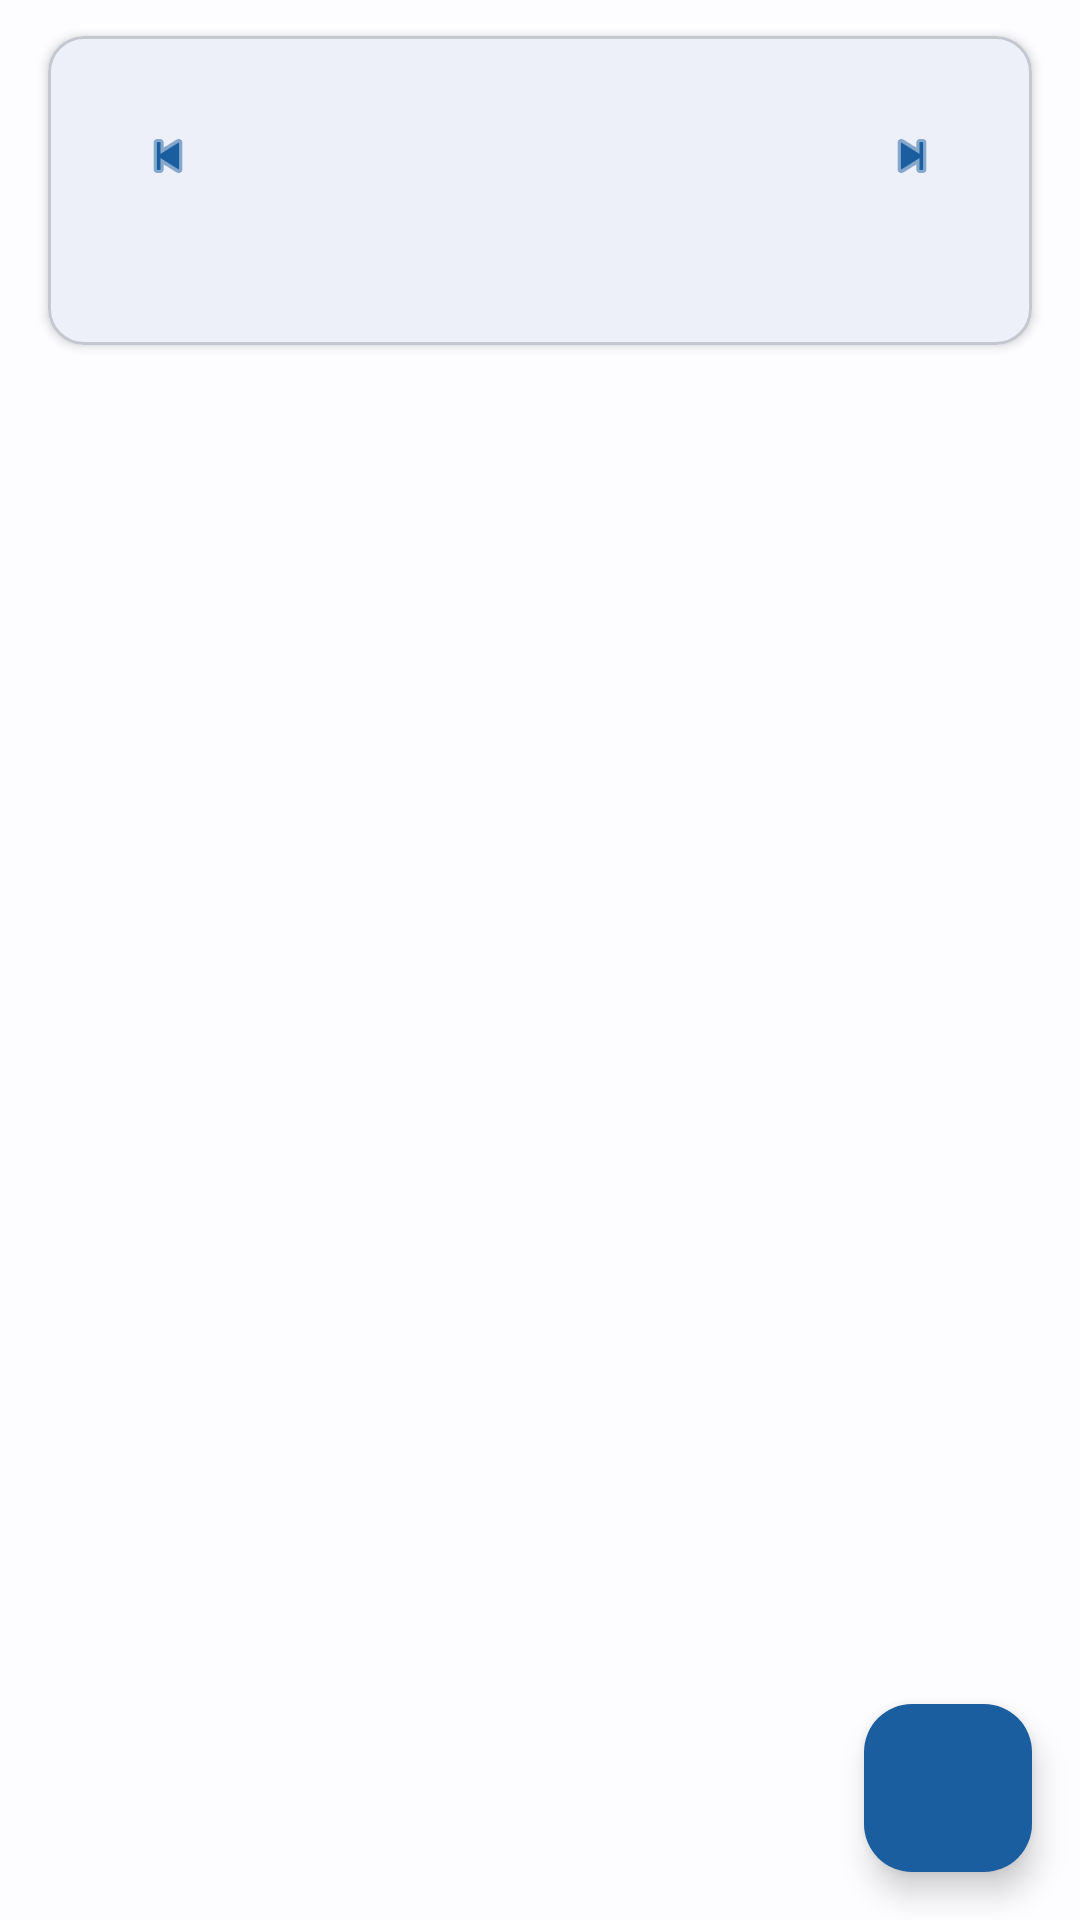

Where to tap for icons on this 1080px x 1920px app screen, as point (x, y):
Mes anterior: point (168, 156)
Mes siguiente: point (912, 156)
